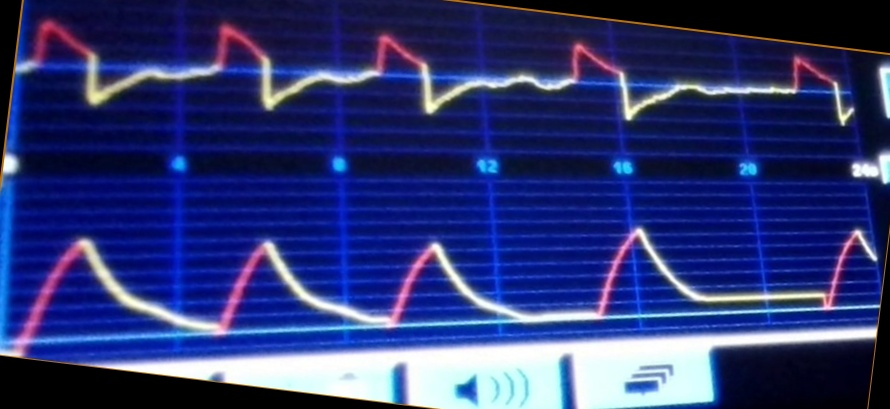Ineffective_effort Flow: (21, 13, 854, 134)
Ineffective_effort Volume: (9, 224, 872, 335)
